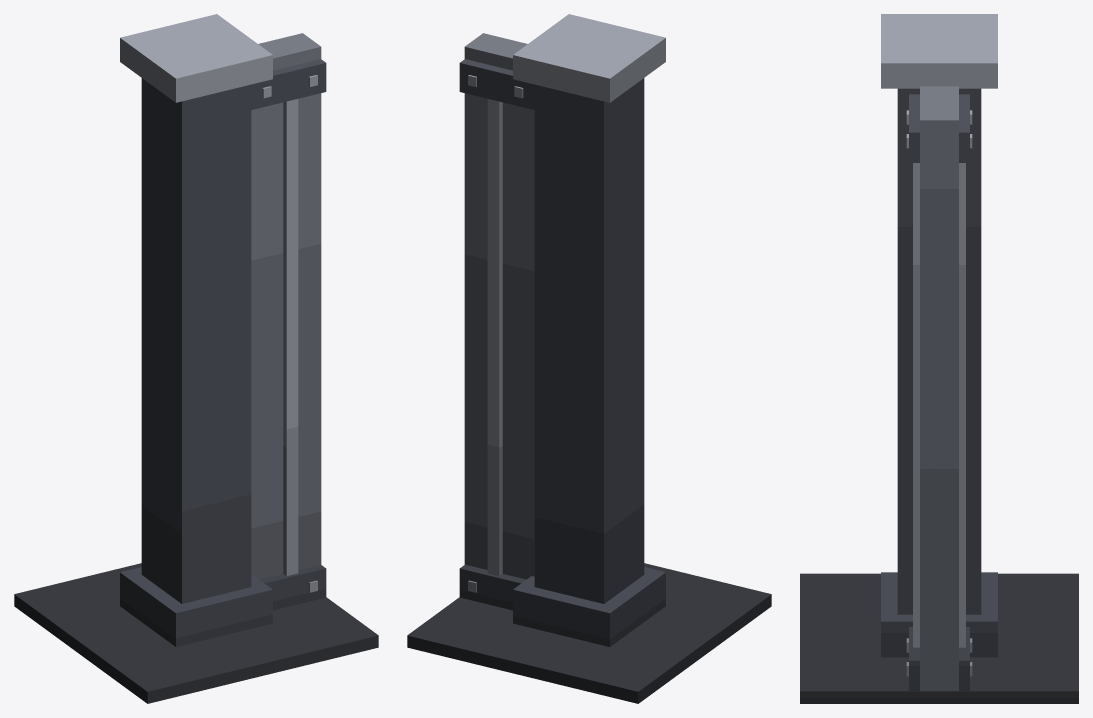
File: model_45_iron_end.glb
The picture shows the model from 3 angles, left to right: view 1: azimuth 30°, elevation 25°; view 2: azimuth 150°, elevation 25°; view 3: azimuth 270°, elevation 25°; orthographic projection. The views are drawn at different scales.
Bounding box in the file's own units: 1 × 2.4 × 1.
1 material, 1 textured.
